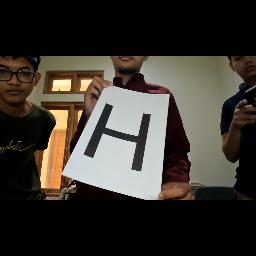h: (82, 100, 152, 176)
